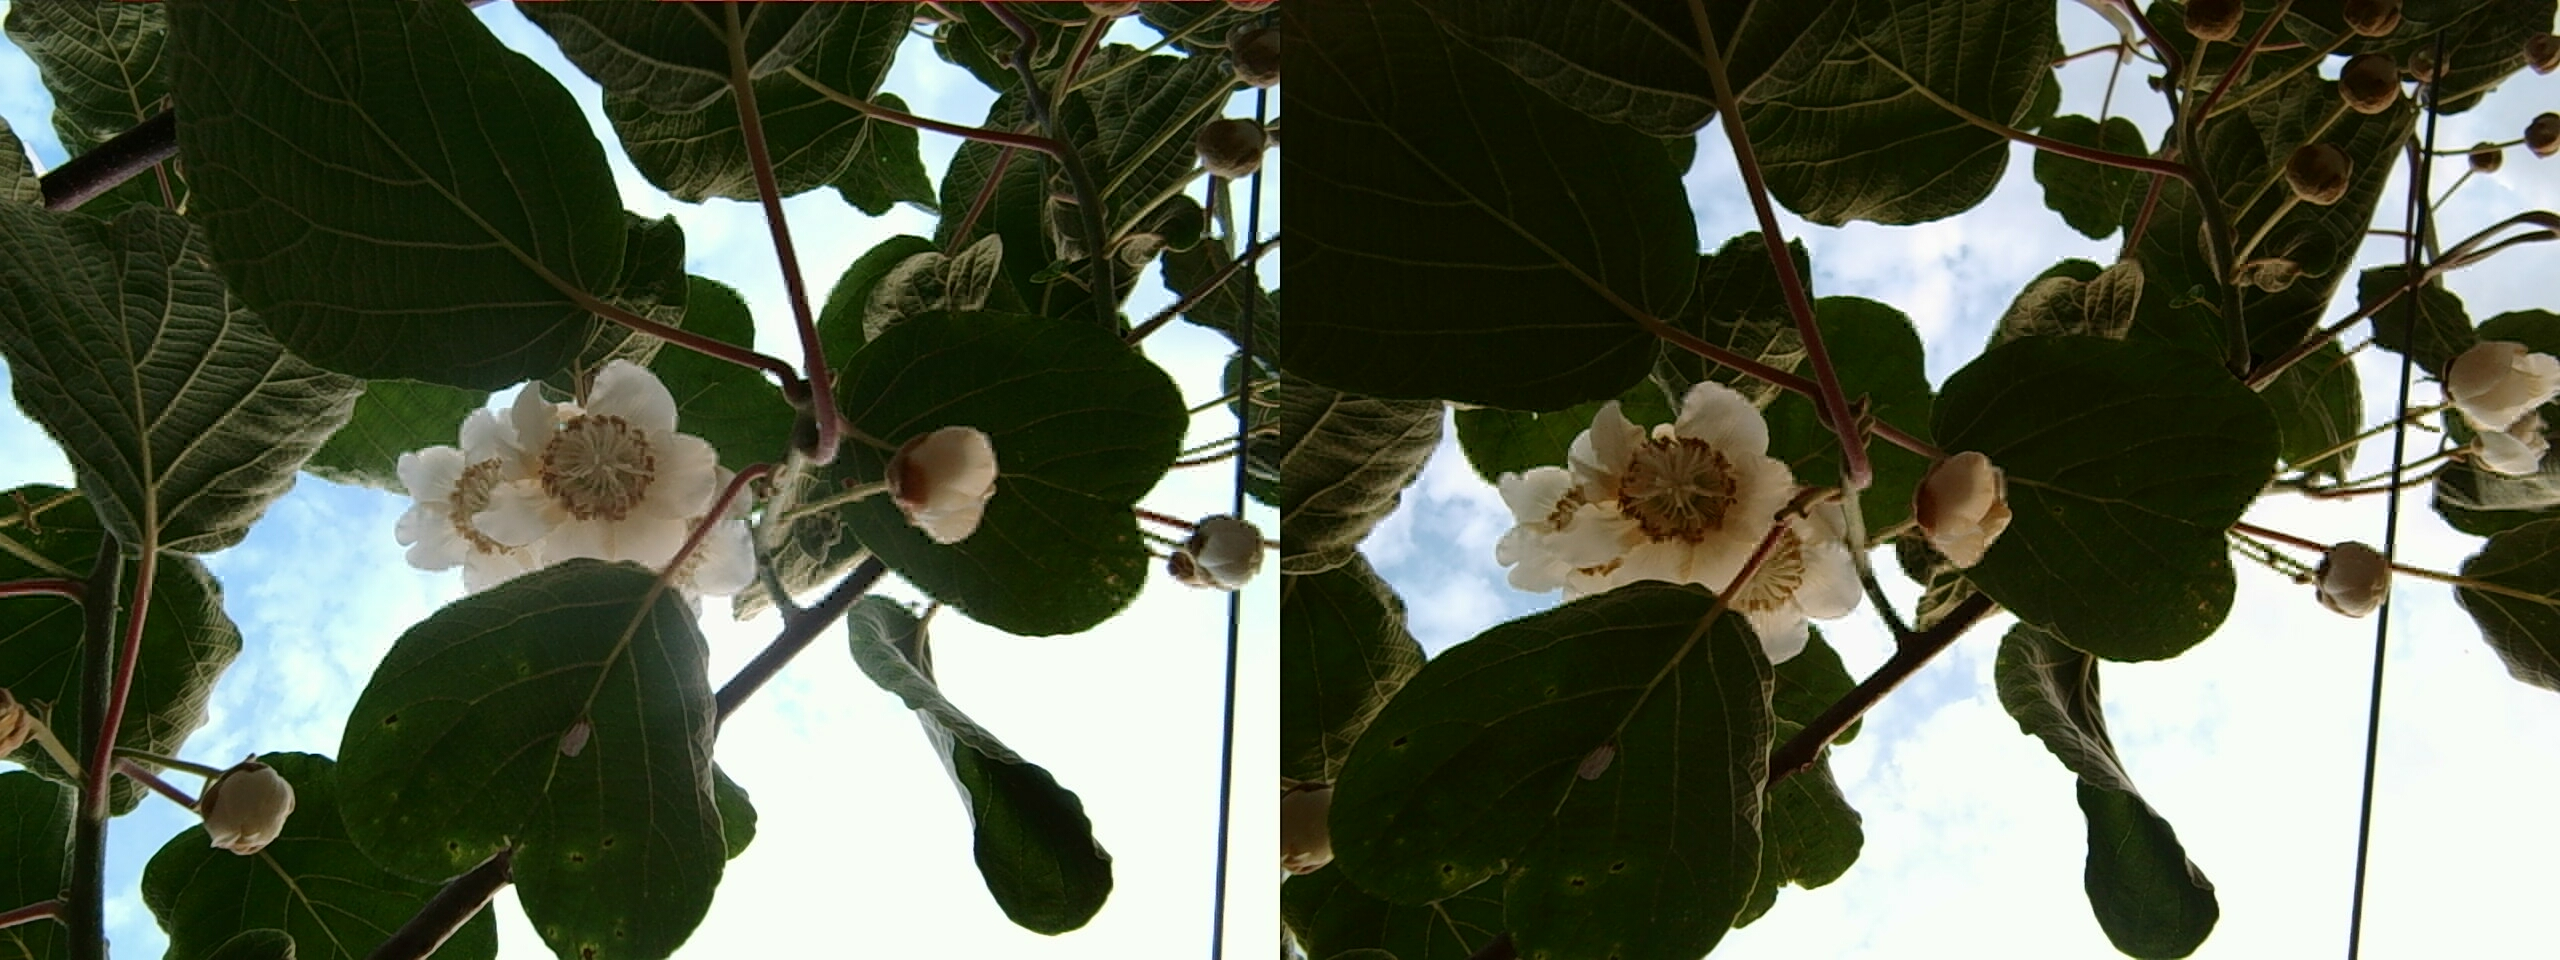flower: (434, 358, 709, 575), (1522, 376, 1789, 593), (1709, 493, 1855, 647)
